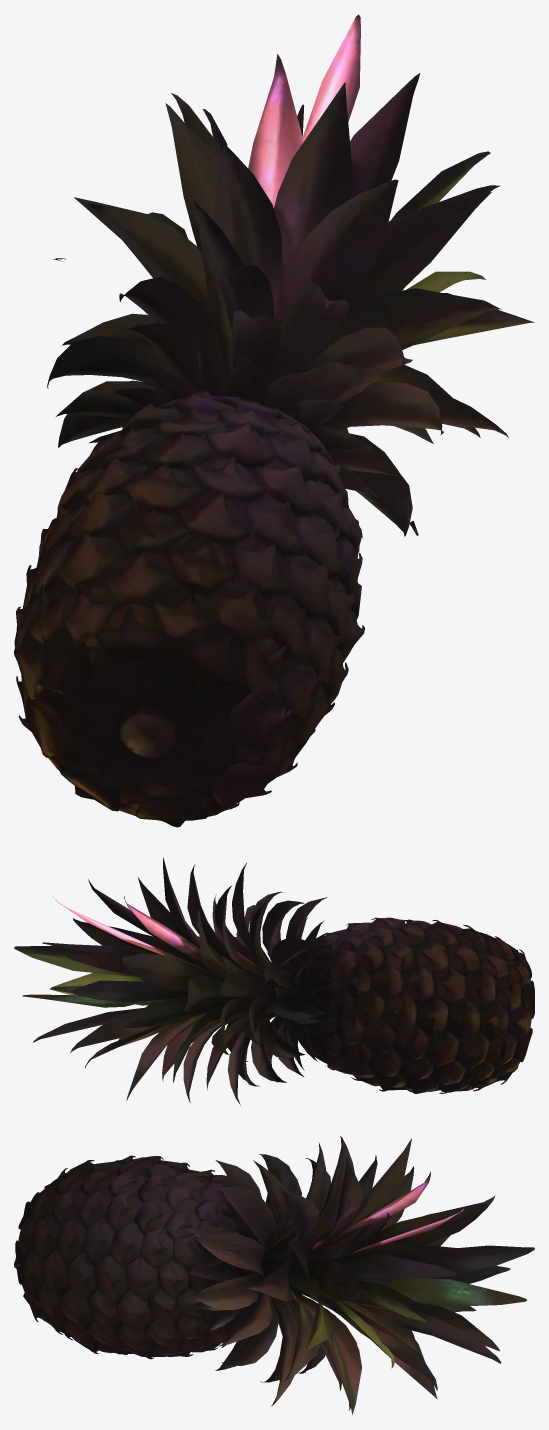
File: pineapple-CXdXsnb_.glb
3 views of the same model, one above another, from view 1: azimuth 30°, elevation 25°; view 2: azimuth 150°, elevation 25°; view 3: azimuth 270°, elevation 25° (orthographic). The views are drawn at different scales.
Visible parts, largest first — view 1: pineapple_Baked; view 2: pineapple_Baked; view 3: pineapple_Baked.
Part boxes in pixels (<box>): pineapple_Baked: <box>14,14,534,827</box>; pineapple_Baked: <box>14,857,534,1105</box>; pineapple_Baked: <box>14,1136,534,1414</box>.
Size of the model in its own units: 0.3629 by 0.2339 by 0.3783.
1 material, 1 textured.
